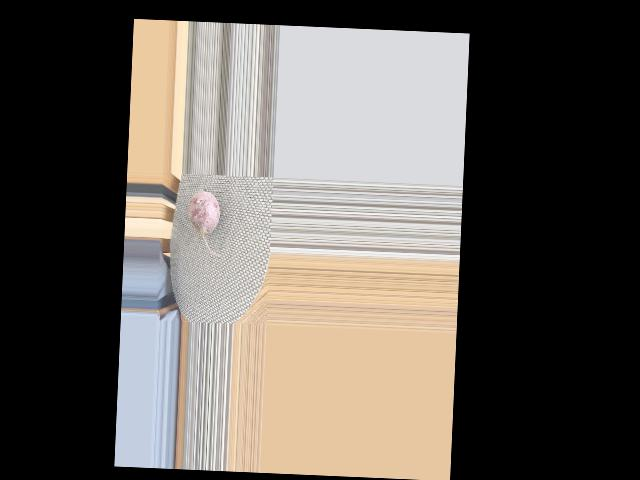beet: (186, 190, 224, 256)
